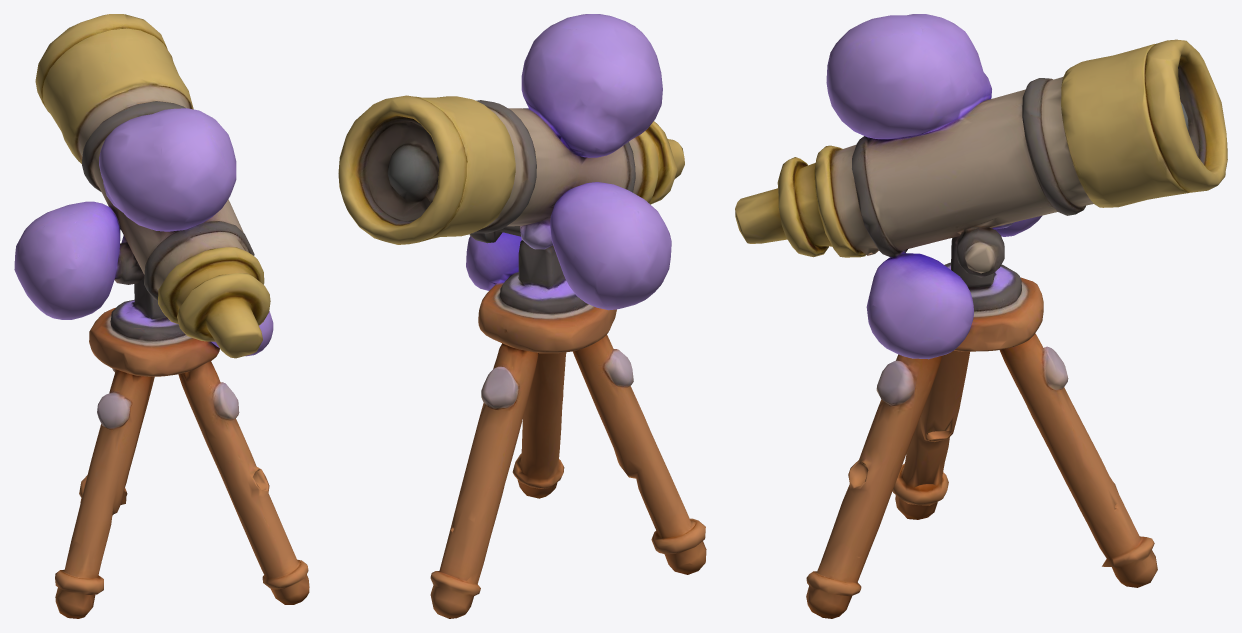
Rendered from telescope.glb.
3 views of the same model, side by side, from view 1: azimuth 30°, elevation 25°; view 2: azimuth 150°, elevation 25°; view 3: azimuth 270°, elevation 25° (orthographic). The views are drawn at different scales.
Visible parts, largest first — view 1: tripo_node_062dd0d9-c3fb-4044-90de-04350b96afd8; view 2: tripo_node_062dd0d9-c3fb-4044-90de-04350b96afd8; view 3: tripo_node_062dd0d9-c3fb-4044-90de-04350b96afd8.
Boxes of the visible parts, <box> form: tripo_node_062dd0d9-c3fb-4044-90de-04350b96afd8: <box>14,14,309,618</box>; tripo_node_062dd0d9-c3fb-4044-90de-04350b96afd8: <box>338,14,706,618</box>; tripo_node_062dd0d9-c3fb-4044-90de-04350b96afd8: <box>735,14,1227,618</box>.
Size of the model in its own units: 0.4759 by 1 by 0.8088.
1 material, 1 textured.
